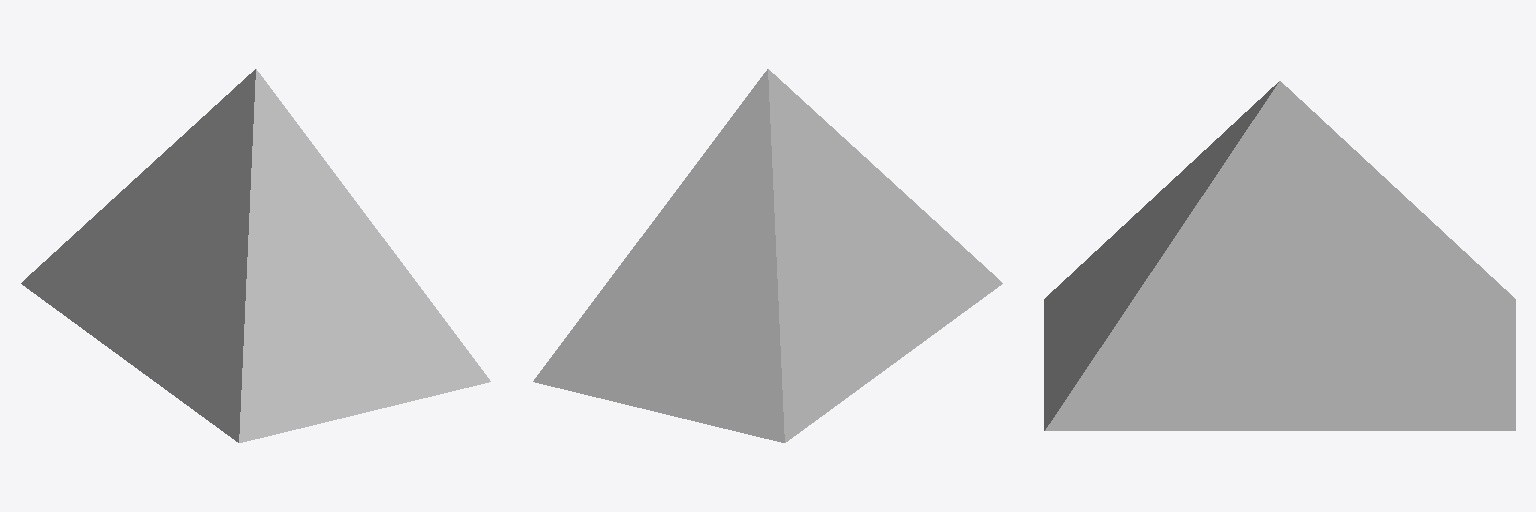
The robot description file, URDF, robot "root":
<robot name="root">
  <link name="link_001">
    <visual>
      <origin xyz="0 0 0" rpy="0 0 0"/>
      <geometry>
        <mesh filename="pyramidlarge.obj" scale="1.0000E+00 1.5000E+00 1.0000E+00"/>
      </geometry>
      <material name="">
        <color rgba="7.50E-01 7.50E-01 7.50E-01 1"/>
      </material>
    </visual>
    <collision>
      <origin xyz="0 0 0" rpy="0 0 0"/>
      <geometry>
        <mesh filename="pyramidlarge.obj" scale="1.0000E+00 1.5000E+00 1.0000E+00"/>
      </geometry>
    </collision>
    <inertial>
      <mass value="0.16"/> <!-- 质量：0.1kg -->
    </inertial>
  </link>
</robot>

--- Render facts (derived) ---
Views: 3 orthographic renders of the robot side by side, from view 1: azimuth 30°, elevation 25°; view 2: azimuth 150°, elevation 25°; view 3: azimuth 270°, elevation 25°.
Robot: root — 1 links, 0 joints (none); root link link_001; default pose: every joint at zero.
Visible links, largest first — view 1: link_001; view 2: link_001; view 3: link_001.
Boxes of the visible links, x1,y1,x2,y2 form: link_001: (21, 69, 490, 442); link_001: (533, 69, 1002, 442); link_001: (1044, 81, 1515, 430).
Bounding box of the posed robot: 0.1001 × 0.1501 × 0.1001 m (x, y, z).
1 mesh visuals loaded from 1 distinct referenced files (1 OBJ).
